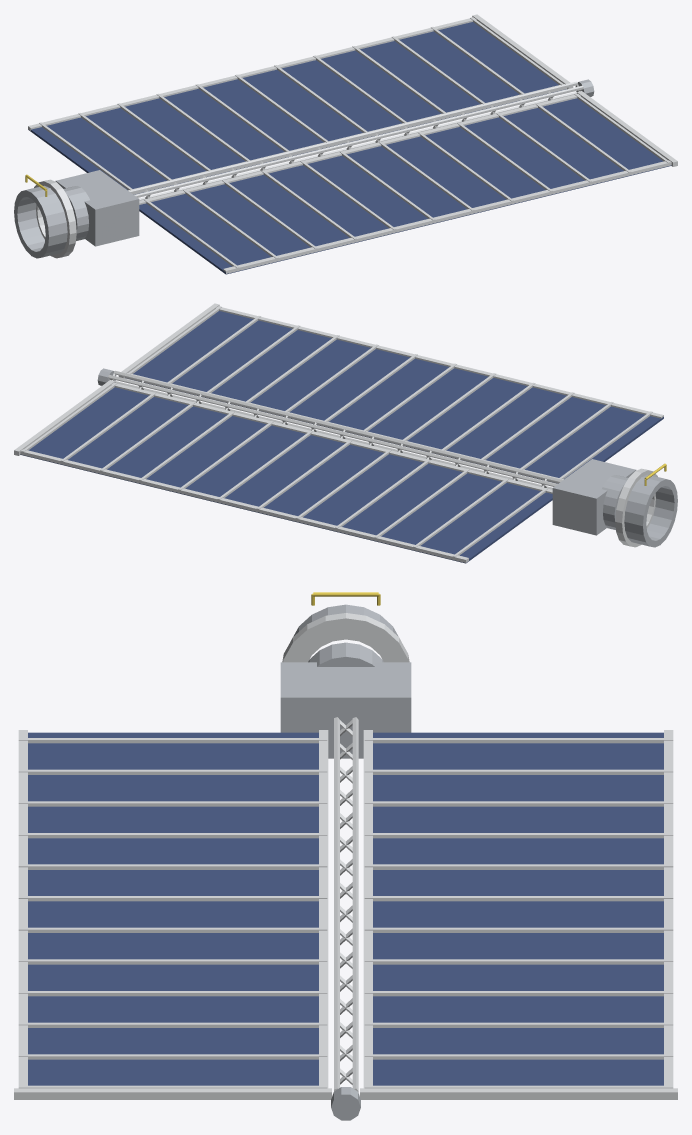
The model's file is orbital-station-and-docking-bays-solar-array-wing-depl-223eb685__24541.glb.
3 renders of one model, top to bottom at view 1: azimuth 30°, elevation 25°; view 2: azimuth 150°, elevation 25°; view 3: azimuth 270°, elevation 25°, orthographic. The views are drawn at different scales.
Visible parts, largest first — view 1: solar-array-wing-deployed, array-gimbal; view 2: solar-array-wing-deployed, array-gimbal; view 3: solar-array-wing-deployed, array-gimbal.
Part boxes in pixels (left/top/right/bottom): solar-array-wing-deployed: left=14, top=14, right=677, bottom=274; array-gimbal: left=55, top=170, right=139, bottom=246; solar-array-wing-deployed: left=14, top=303, right=677, bottom=563; array-gimbal: left=552, top=459, right=636, bottom=535; solar-array-wing-deployed: left=14, top=592, right=677, bottom=1120; array-gimbal: left=280, top=642, right=411, bottom=758.
Bounding box in the file's own units: 11.4 × 1.51 × 7.1.
